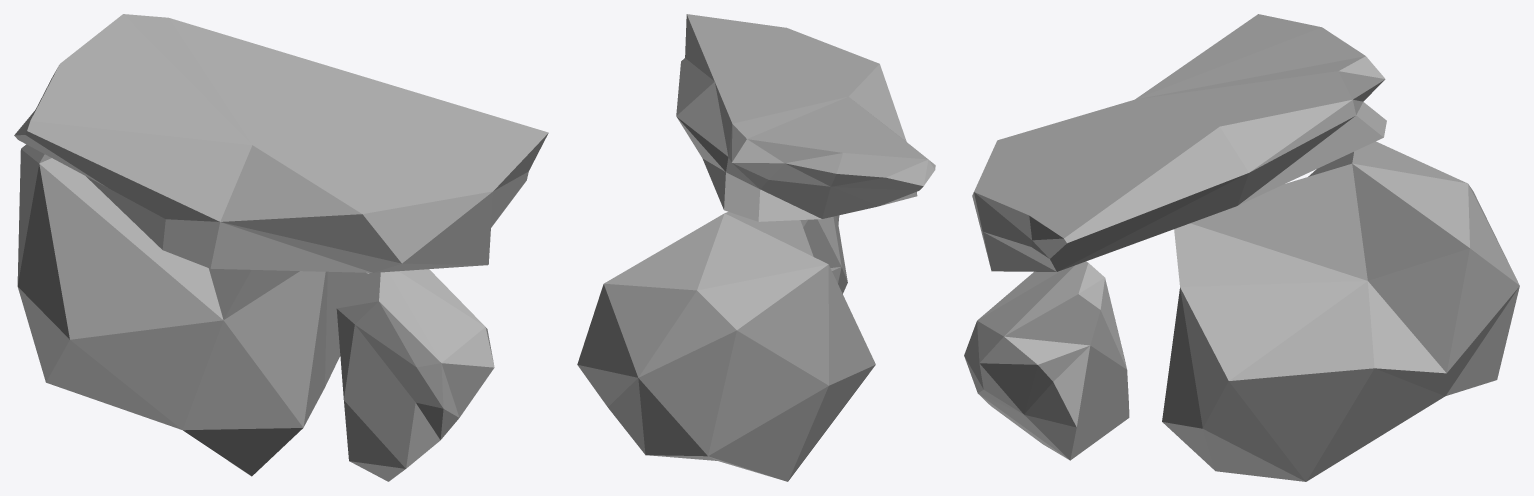
Rendered from Rubble.fbx.
3 views of the same model, side by side, from view 1: azimuth 30°, elevation 25°; view 2: azimuth 150°, elevation 25°; view 3: azimuth 270°, elevation 25° (orthographic). The views are drawn at different scales.
Visible parts, largest first — view 1: Cube; view 2: Cube; view 3: Cube.
Boxes of the visible parts, x1,y1,x2,y2 form: Cube: [14, 14, 548, 481]; Cube: [577, 14, 935, 481]; Cube: [964, 14, 1519, 481].
Bounding box in the file's own units: 4.04 × 3.98 × 5.11.
